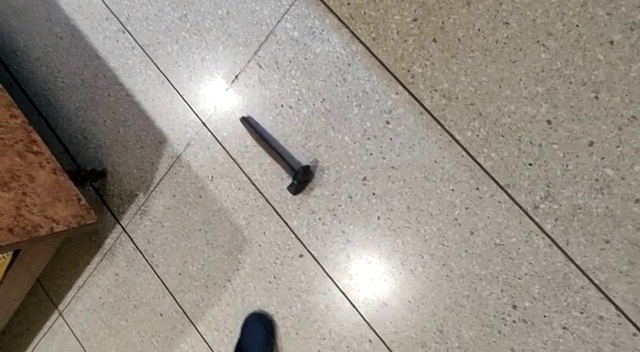hammer: (237, 114, 315, 198)
